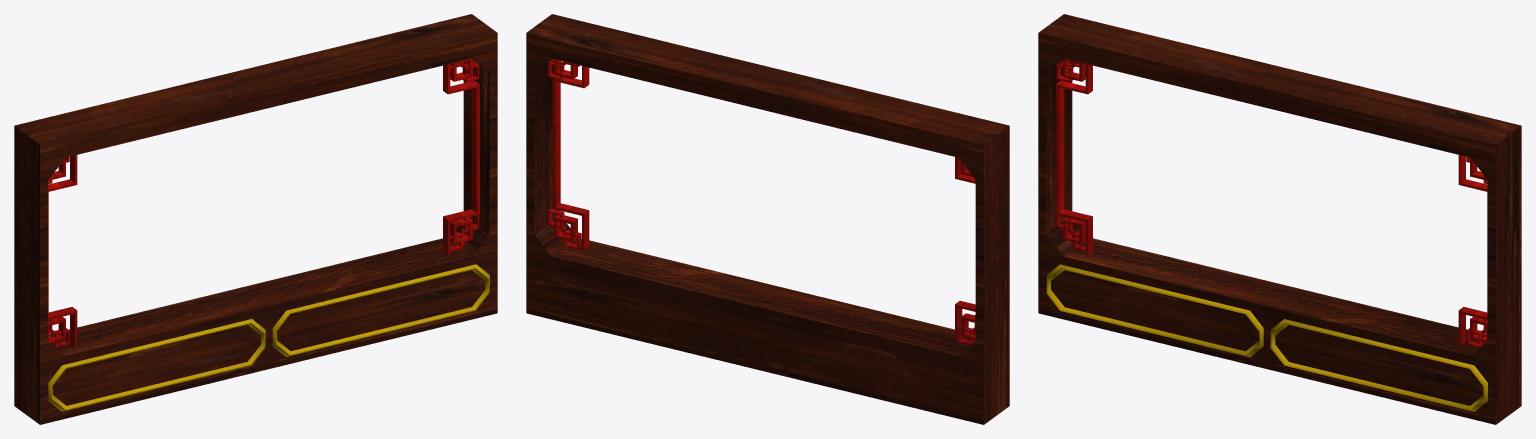
The model's file is JanelaJaponesa.fbx.
3 views of the same model, side by side, from view 1: azimuth 30°, elevation 25°; view 2: azimuth 150°, elevation 25°; view 3: azimuth 330°, elevation 25° (orthographic).
Parts seen in each view (by area): view 1: JanelaJaponesa; view 2: JanelaJaponesa; view 3: JanelaJaponesa.
Part boxes in pixels (<box>): JanelaJaponesa: <box>14,14,497,424</box>; JanelaJaponesa: <box>526,14,1009,424</box>; JanelaJaponesa: <box>1038,14,1521,424</box>.
Size of the model in its own units: 525 by 307 by 54.33.
